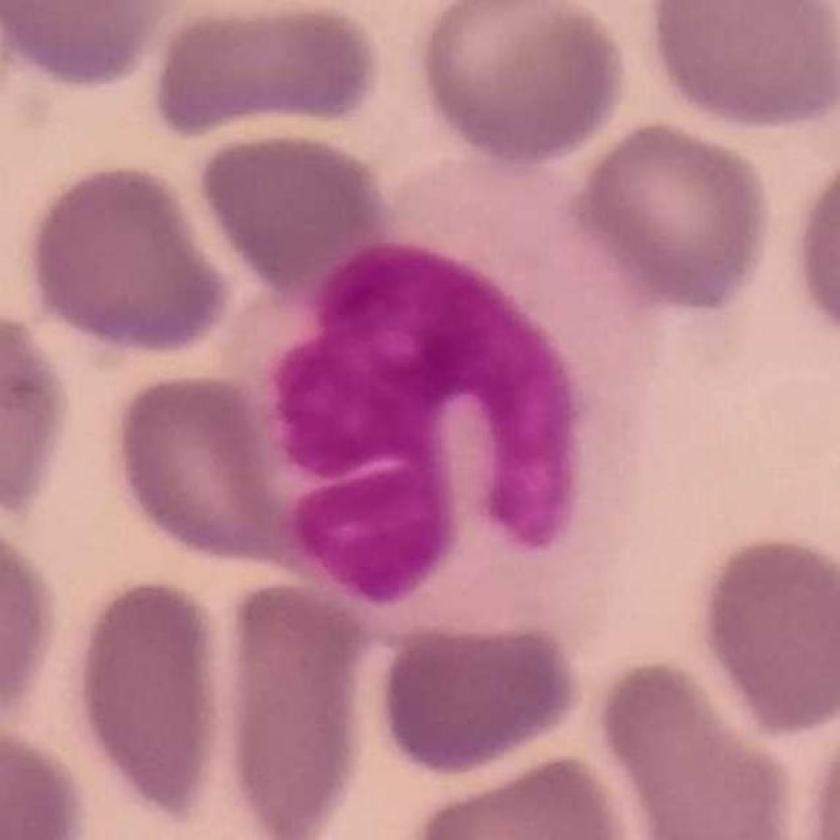monocyte: (235, 163, 665, 650)
